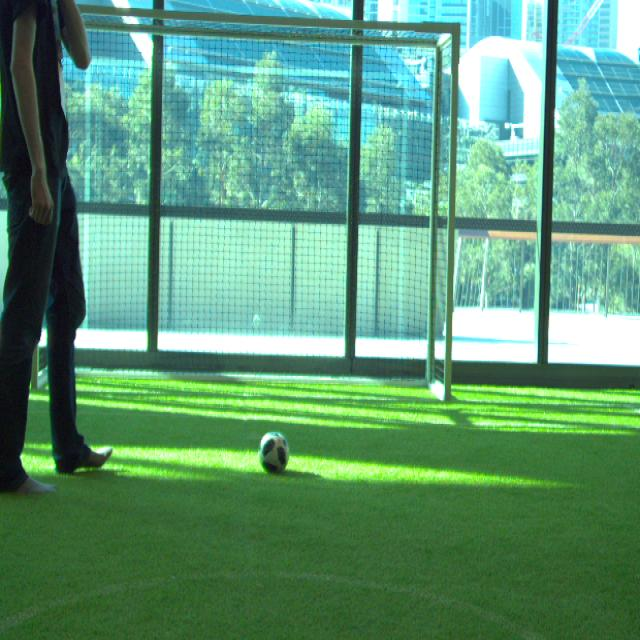ball: (258, 432, 289, 475)
goalpost: (444, 26, 459, 402), (30, 335, 39, 389)
